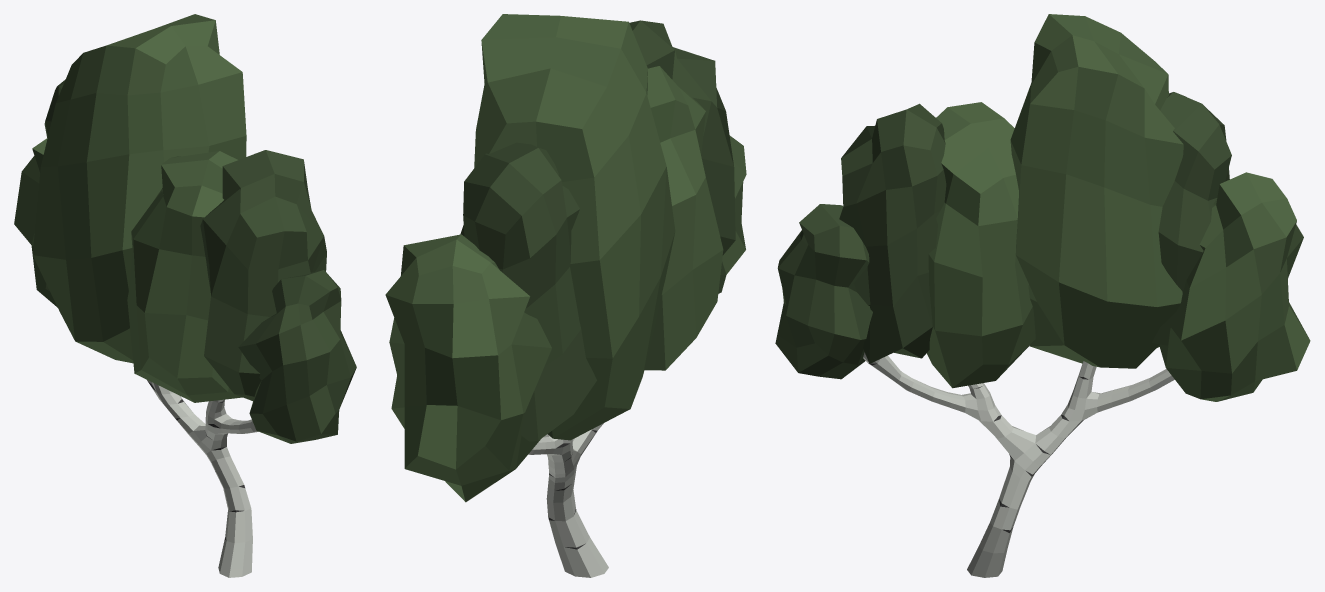
The model's file is birch4.glb.
The picture shows the model from 3 angles, left to right: view 1: azimuth 30°, elevation 25°; view 2: azimuth 150°, elevation 25°; view 3: azimuth 270°, elevation 25°; orthographic projection. The views are drawn at different scales.
Visible parts, largest first — view 1: BirchTree_4; view 2: BirchTree_4; view 3: BirchTree_4.
Boxes of the visible parts, <box> form: BirchTree_4: <box>14,14,356,577</box>; BirchTree_4: <box>385,14,746,577</box>; BirchTree_4: <box>775,14,1310,577</box>.
Bounding box in the file's own units: 1.15 × 3.56 × 3.29.
